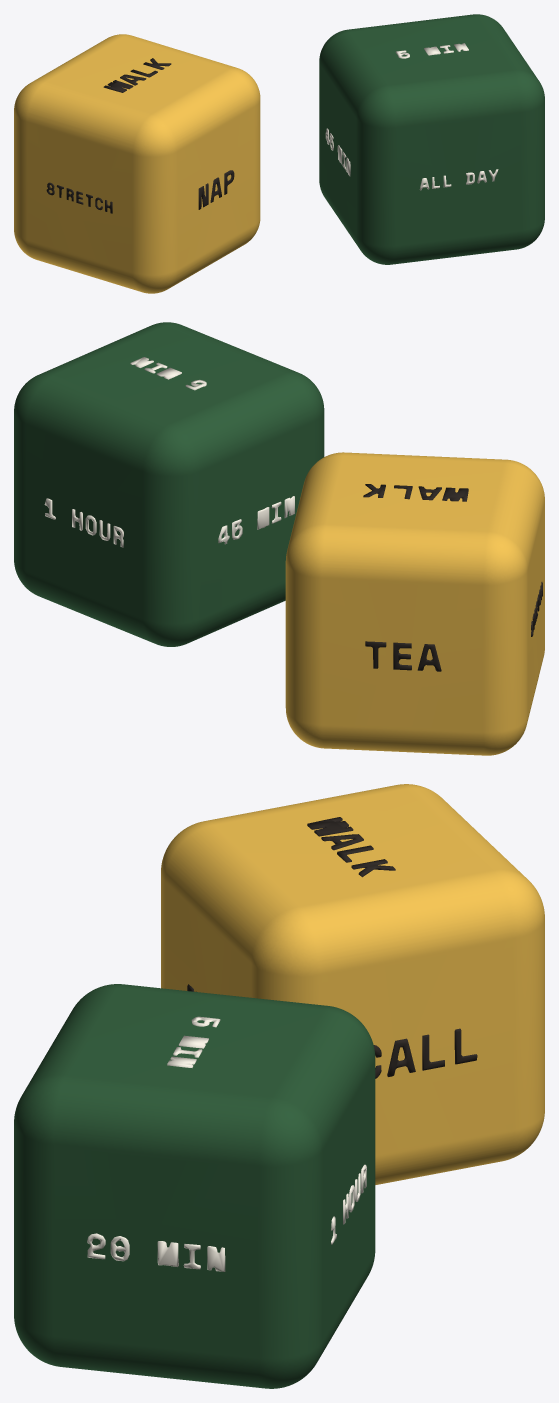
Rendered from dice.glb.
The picture shows the model from 3 angles, top to bottom: view 1: azimuth 30°, elevation 25°; view 2: azimuth 150°, elevation 25°; view 3: azimuth 270°, elevation 25°; orthographic projection. The views are drawn at different scales.
Visible parts, largest first — view 1: die0, die1, die0-ink, die1-ink; view 2: die1, die0, die1-ink, die0-ink; view 3: die1, die0, die1-ink, die0-ink.
Part boxes in pixels (x1,y1,x2,y2): die0: [14, 34, 260, 293]; die1: [319, 14, 544, 264]; die0-ink: [46, 58, 234, 213]; die1-ink: [325, 43, 498, 190]; die1: [14, 322, 324, 646]; die0: [285, 452, 544, 755]; die1-ink: [44, 357, 294, 547]; die0-ink: [363, 484, 542, 671]; die1: [14, 984, 375, 1388]; die0: [161, 784, 544, 1184]; die1-ink: [87, 1016, 366, 1271]; die0-ink: [187, 817, 477, 1078].
Bounding box in the file's own units: 0.0633 × 0.0243 × 0.0403.
